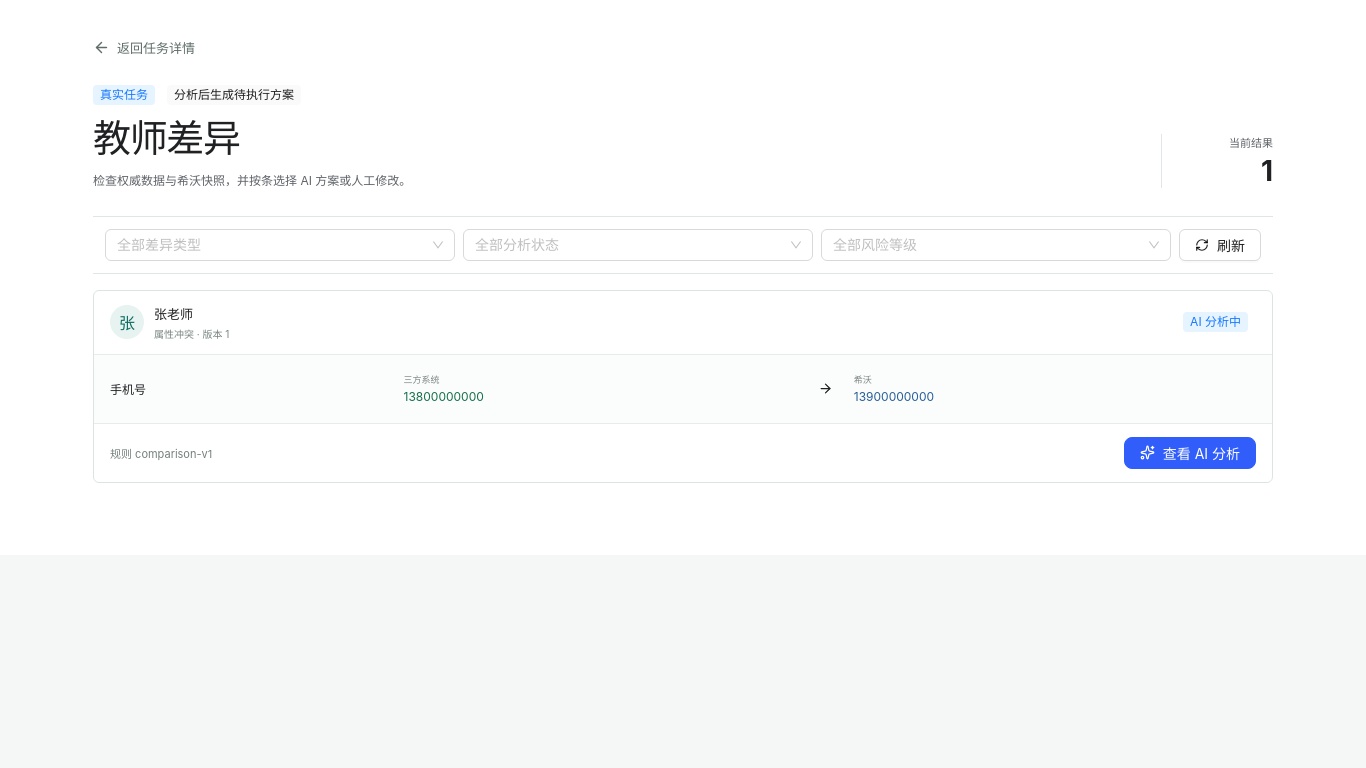
Test: difference category detail › renders backend differences for a real task and opens analysis on demand
Expected: the text "13800000000" is shown, [404,389,484,404]
Expected: the text "13900000000" is shown, [854,389,934,404]
Step 1. Click the button "查看 AI 分析" → (1190, 452), box [1124,436,1256,468]
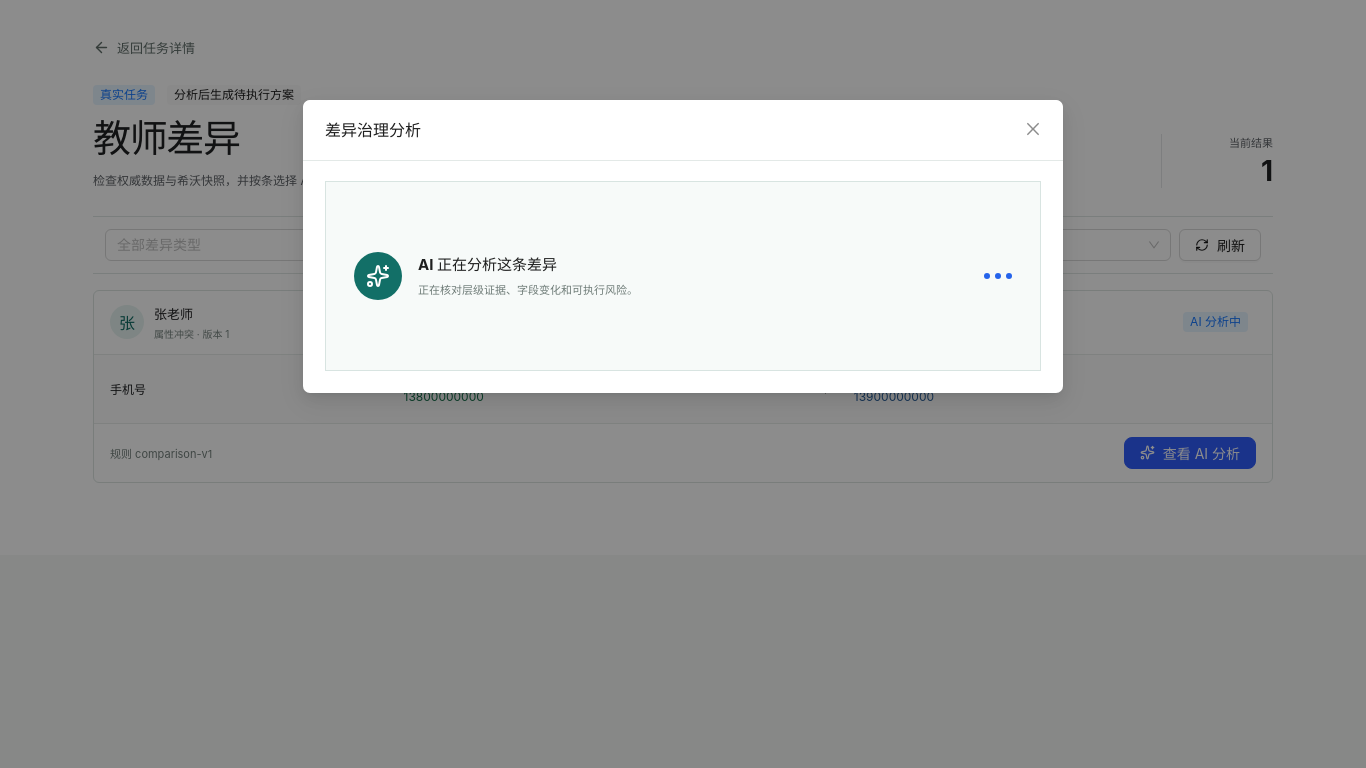
Expected: the text "AI 正在分析这条差异" is shown, [418,255,557,274]
